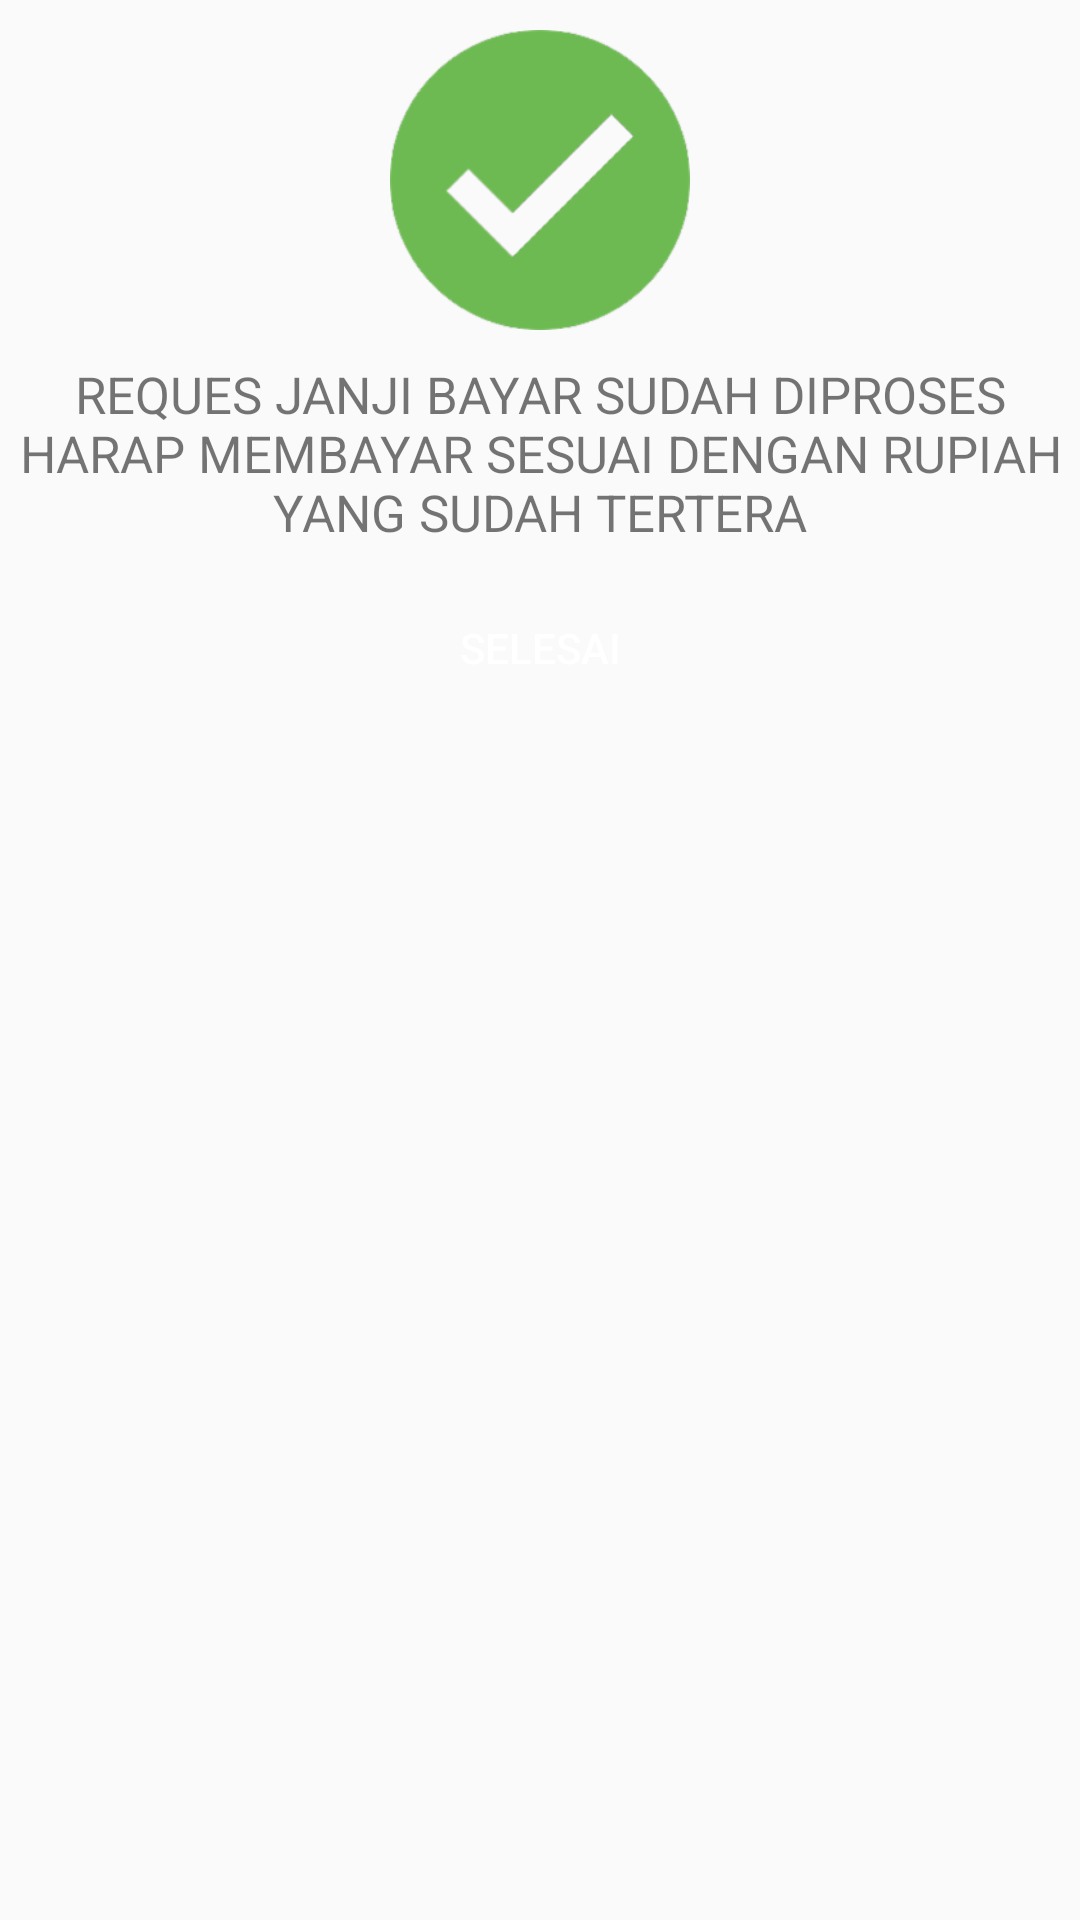

Icons on this 1080px x 1920px Android screen, each with its box as (x1, y1, x2, y2):
centang: (390, 30, 690, 330)
